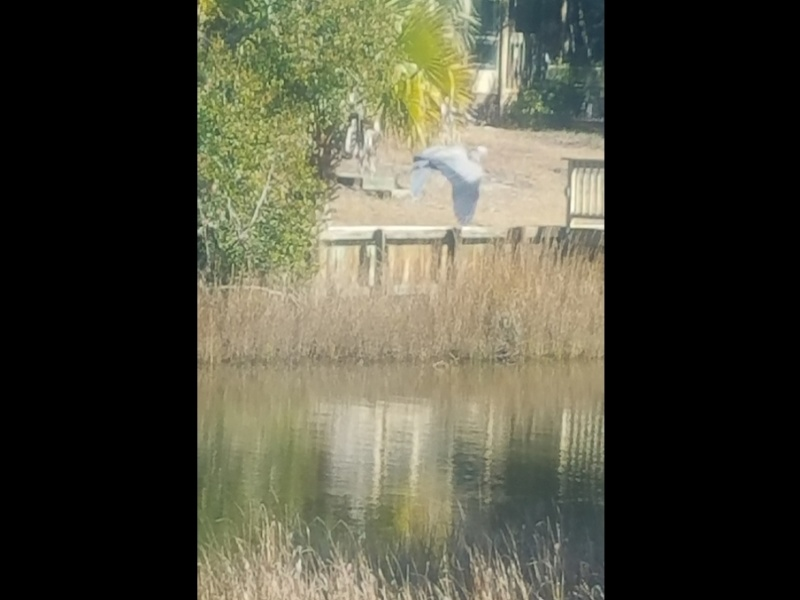heron: (405, 136, 491, 228)
